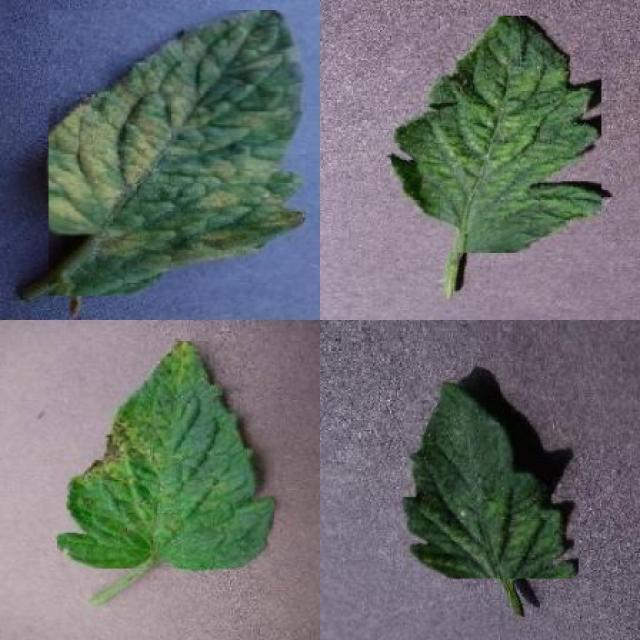Leaf Mold: (48, 10, 306, 296)
Mosaic Virus: (392, 17, 602, 254), (402, 378, 579, 578)
Septoria: (58, 340, 275, 569)
